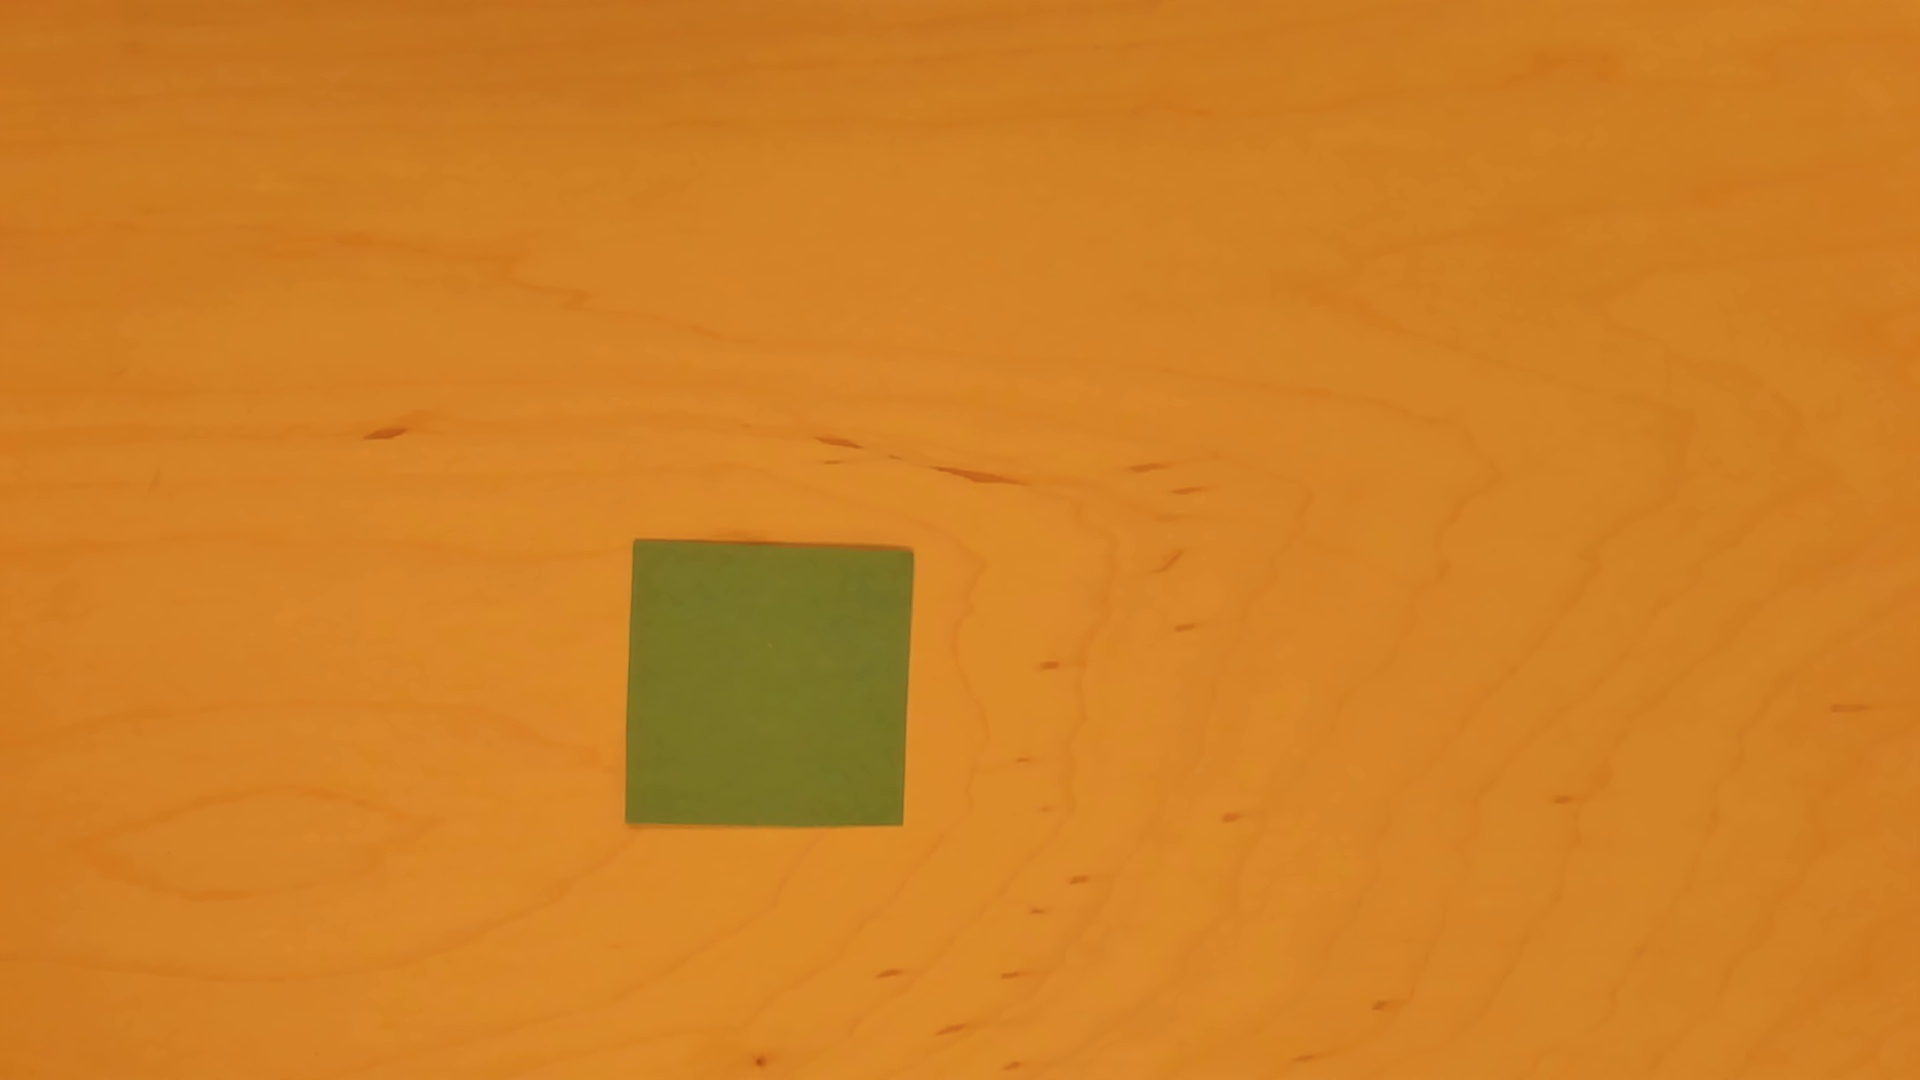GS: (620, 534, 920, 831)
